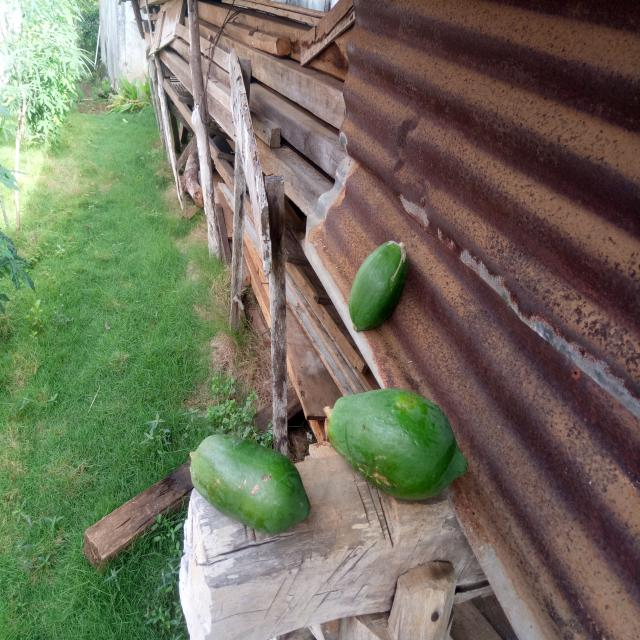Pepaya unrippen: (318, 390, 468, 511), (178, 430, 313, 540), (341, 229, 413, 339)
